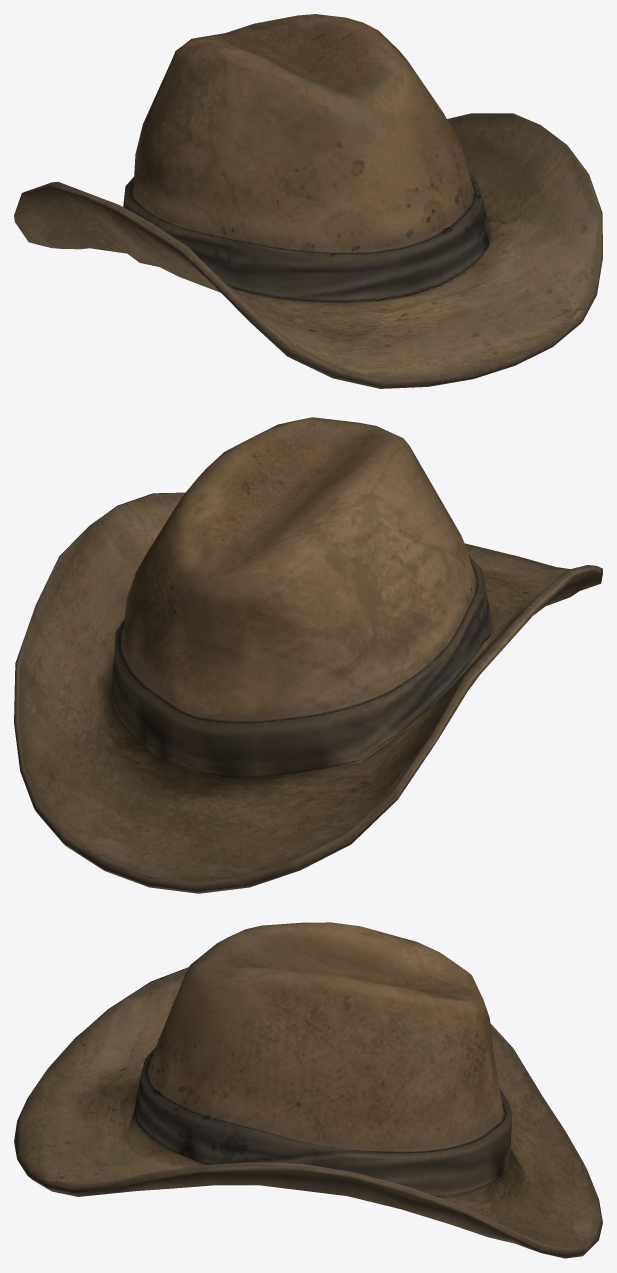
File: Hat 4.FBX
3 renders of one model, top to bottom at view 1: azimuth 30°, elevation 25°; view 2: azimuth 150°, elevation 25°; view 3: azimuth 270°, elevation 25°, orthographic. The views are drawn at different scales.
Visible parts, largest first — view 1: hat 4; view 2: hat 4; view 3: hat 4.
Boxes of the visible parts, box(x1,y1,x2,y2) form: hat 4: box(14, 14, 602, 388); hat 4: box(14, 417, 602, 893); hat 4: box(14, 922, 602, 1258).
Size of the model in its own units: 25.22 by 16.83 by 32.27.
Materials: 1 (1 with a texture image).
